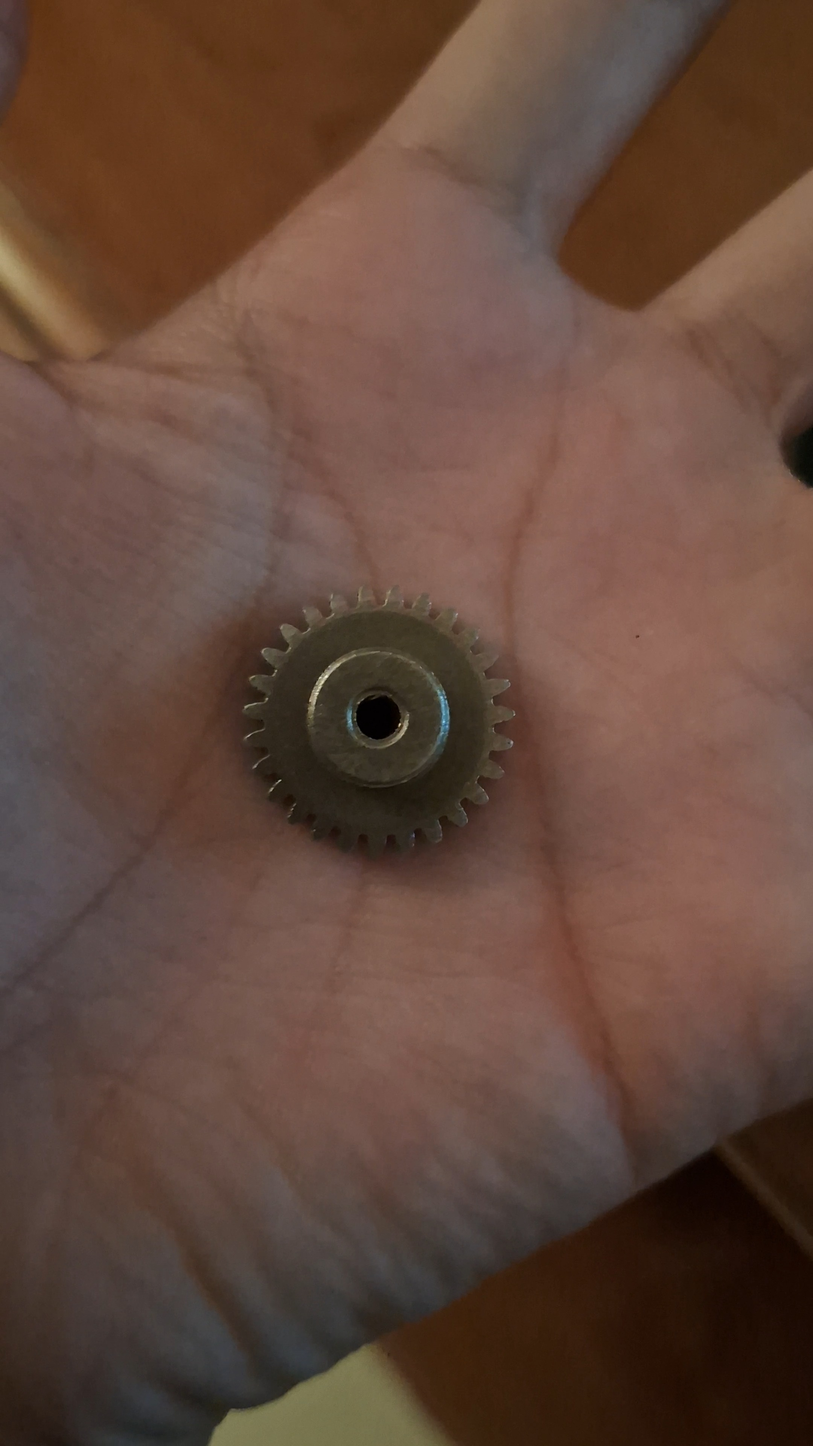spur gear: (245, 588, 513, 855)
